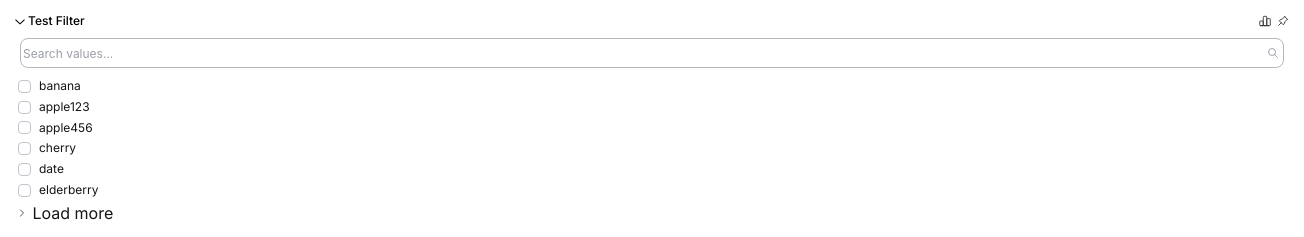
Test: FilterGroup › should filter options when searching
The width and height of the screenshot is (1304, 237).
Type "apple" into the field with placeholder "Search values..." at (652, 53), box [20,38,1284,68]
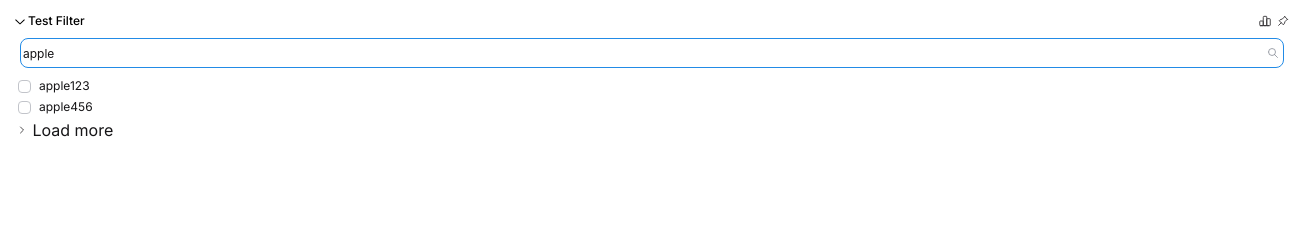
expect the text "apple123" is shown: met, box [39,78,90,93]
expect the text "apple123" is shown 2 times: met, box [39,78,90,93]; [39,99,93,114]
expect the text "banana" is gone: met
